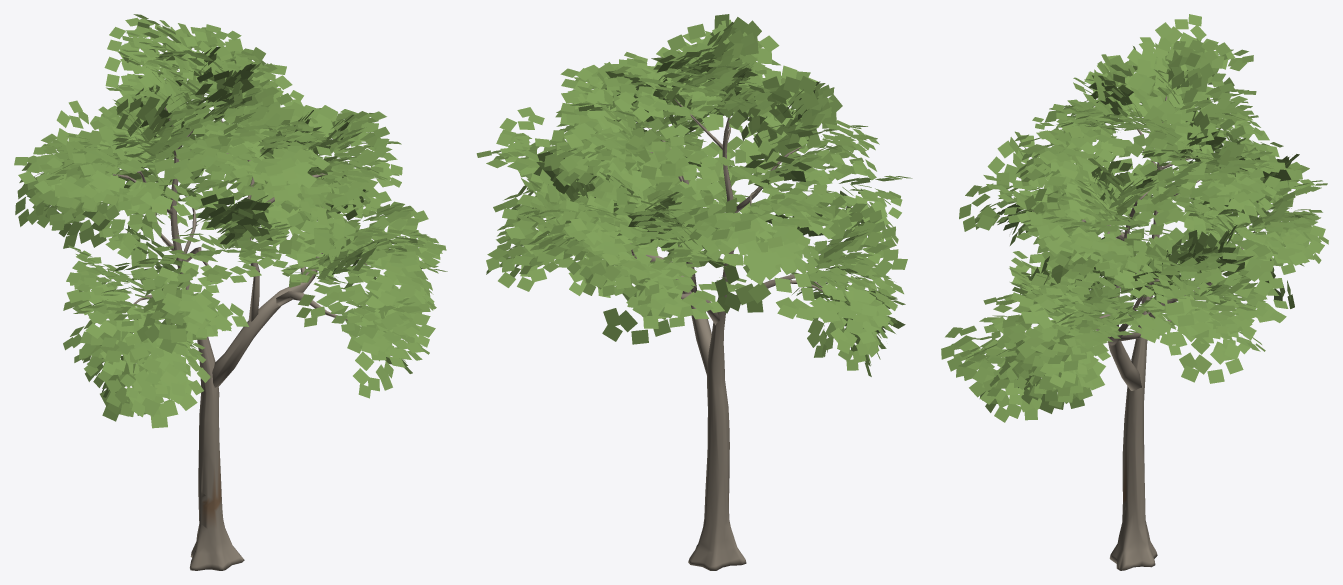
3 renders of one model, left to right at view 1: azimuth 30°, elevation 25°; view 2: azimuth 150°, elevation 25°; view 3: azimuth 270°, elevation 25°, orthographic. The views are drawn at different scales.
Visible parts, largest first — view 1: V20_LOD2_Foliage, V20_LOD2_Body; view 2: V20_LOD2_Foliage, V20_LOD2_Body; view 3: V20_LOD2_Foliage, V20_LOD2_Body.
Part boxes in pixels (<box>): V20_LOD2_Foliage: <box>14,14,447,428</box>; V20_LOD2_Body: <box>113,95,367,570</box>; V20_LOD2_Foliage: <box>476,14,912,376</box>; V20_LOD2_Body: <box>630,99,827,570</box>; V20_LOD2_Foliage: <box>941,14,1328,422</box>; V20_LOD2_Body: <box>1032,96,1255,570</box>.
Size of the model in its own units: 9.08 by 13.04 by 8.74.
Materials: 2 (1 with a texture image).
